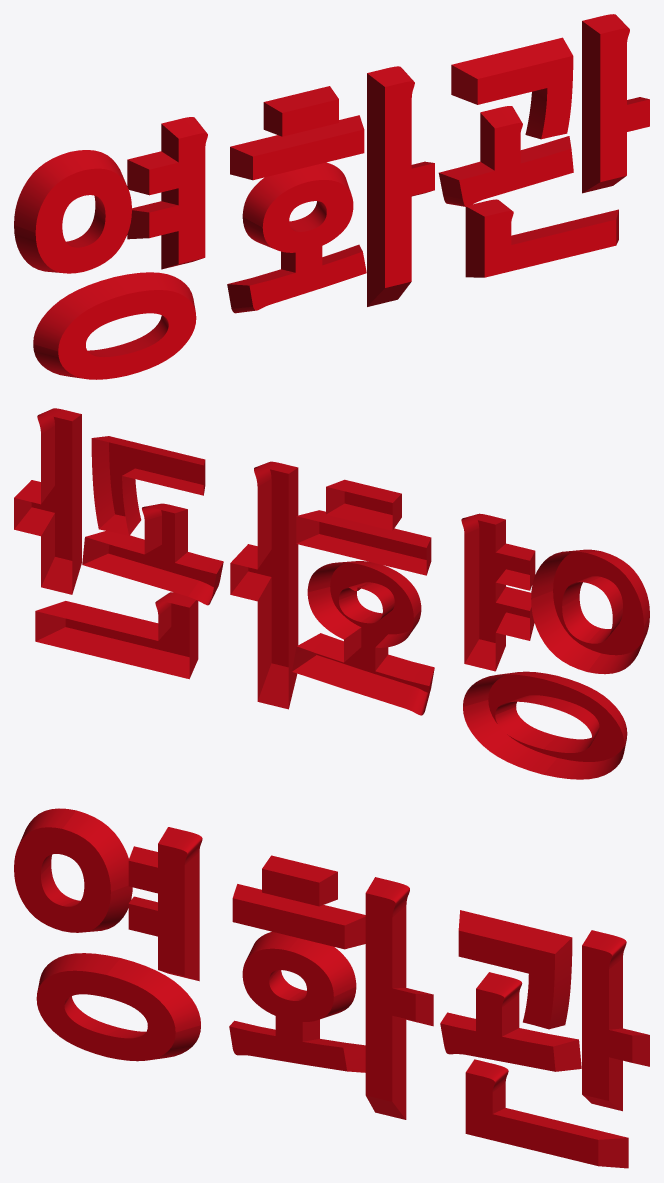
3 views of the same model, one above another, from view 1: azimuth 30°, elevation 25°; view 2: azimuth 150°, elevation 25°; view 3: azimuth 330°, elevation 25° (orthographic).
Visible parts, largest first — view 1: TextPlus002; view 2: TextPlus002; view 3: TextPlus002.
Part boxes in pixels (left/top/right/bottom): TextPlus002: left=14, top=14, right=649, bottom=379; TextPlus002: left=14, top=408, right=649, bottom=779; TextPlus002: left=14, top=808, right=649, bottom=1168.
Bounding box in the file's own units: 261 × 94.6 × 10.
